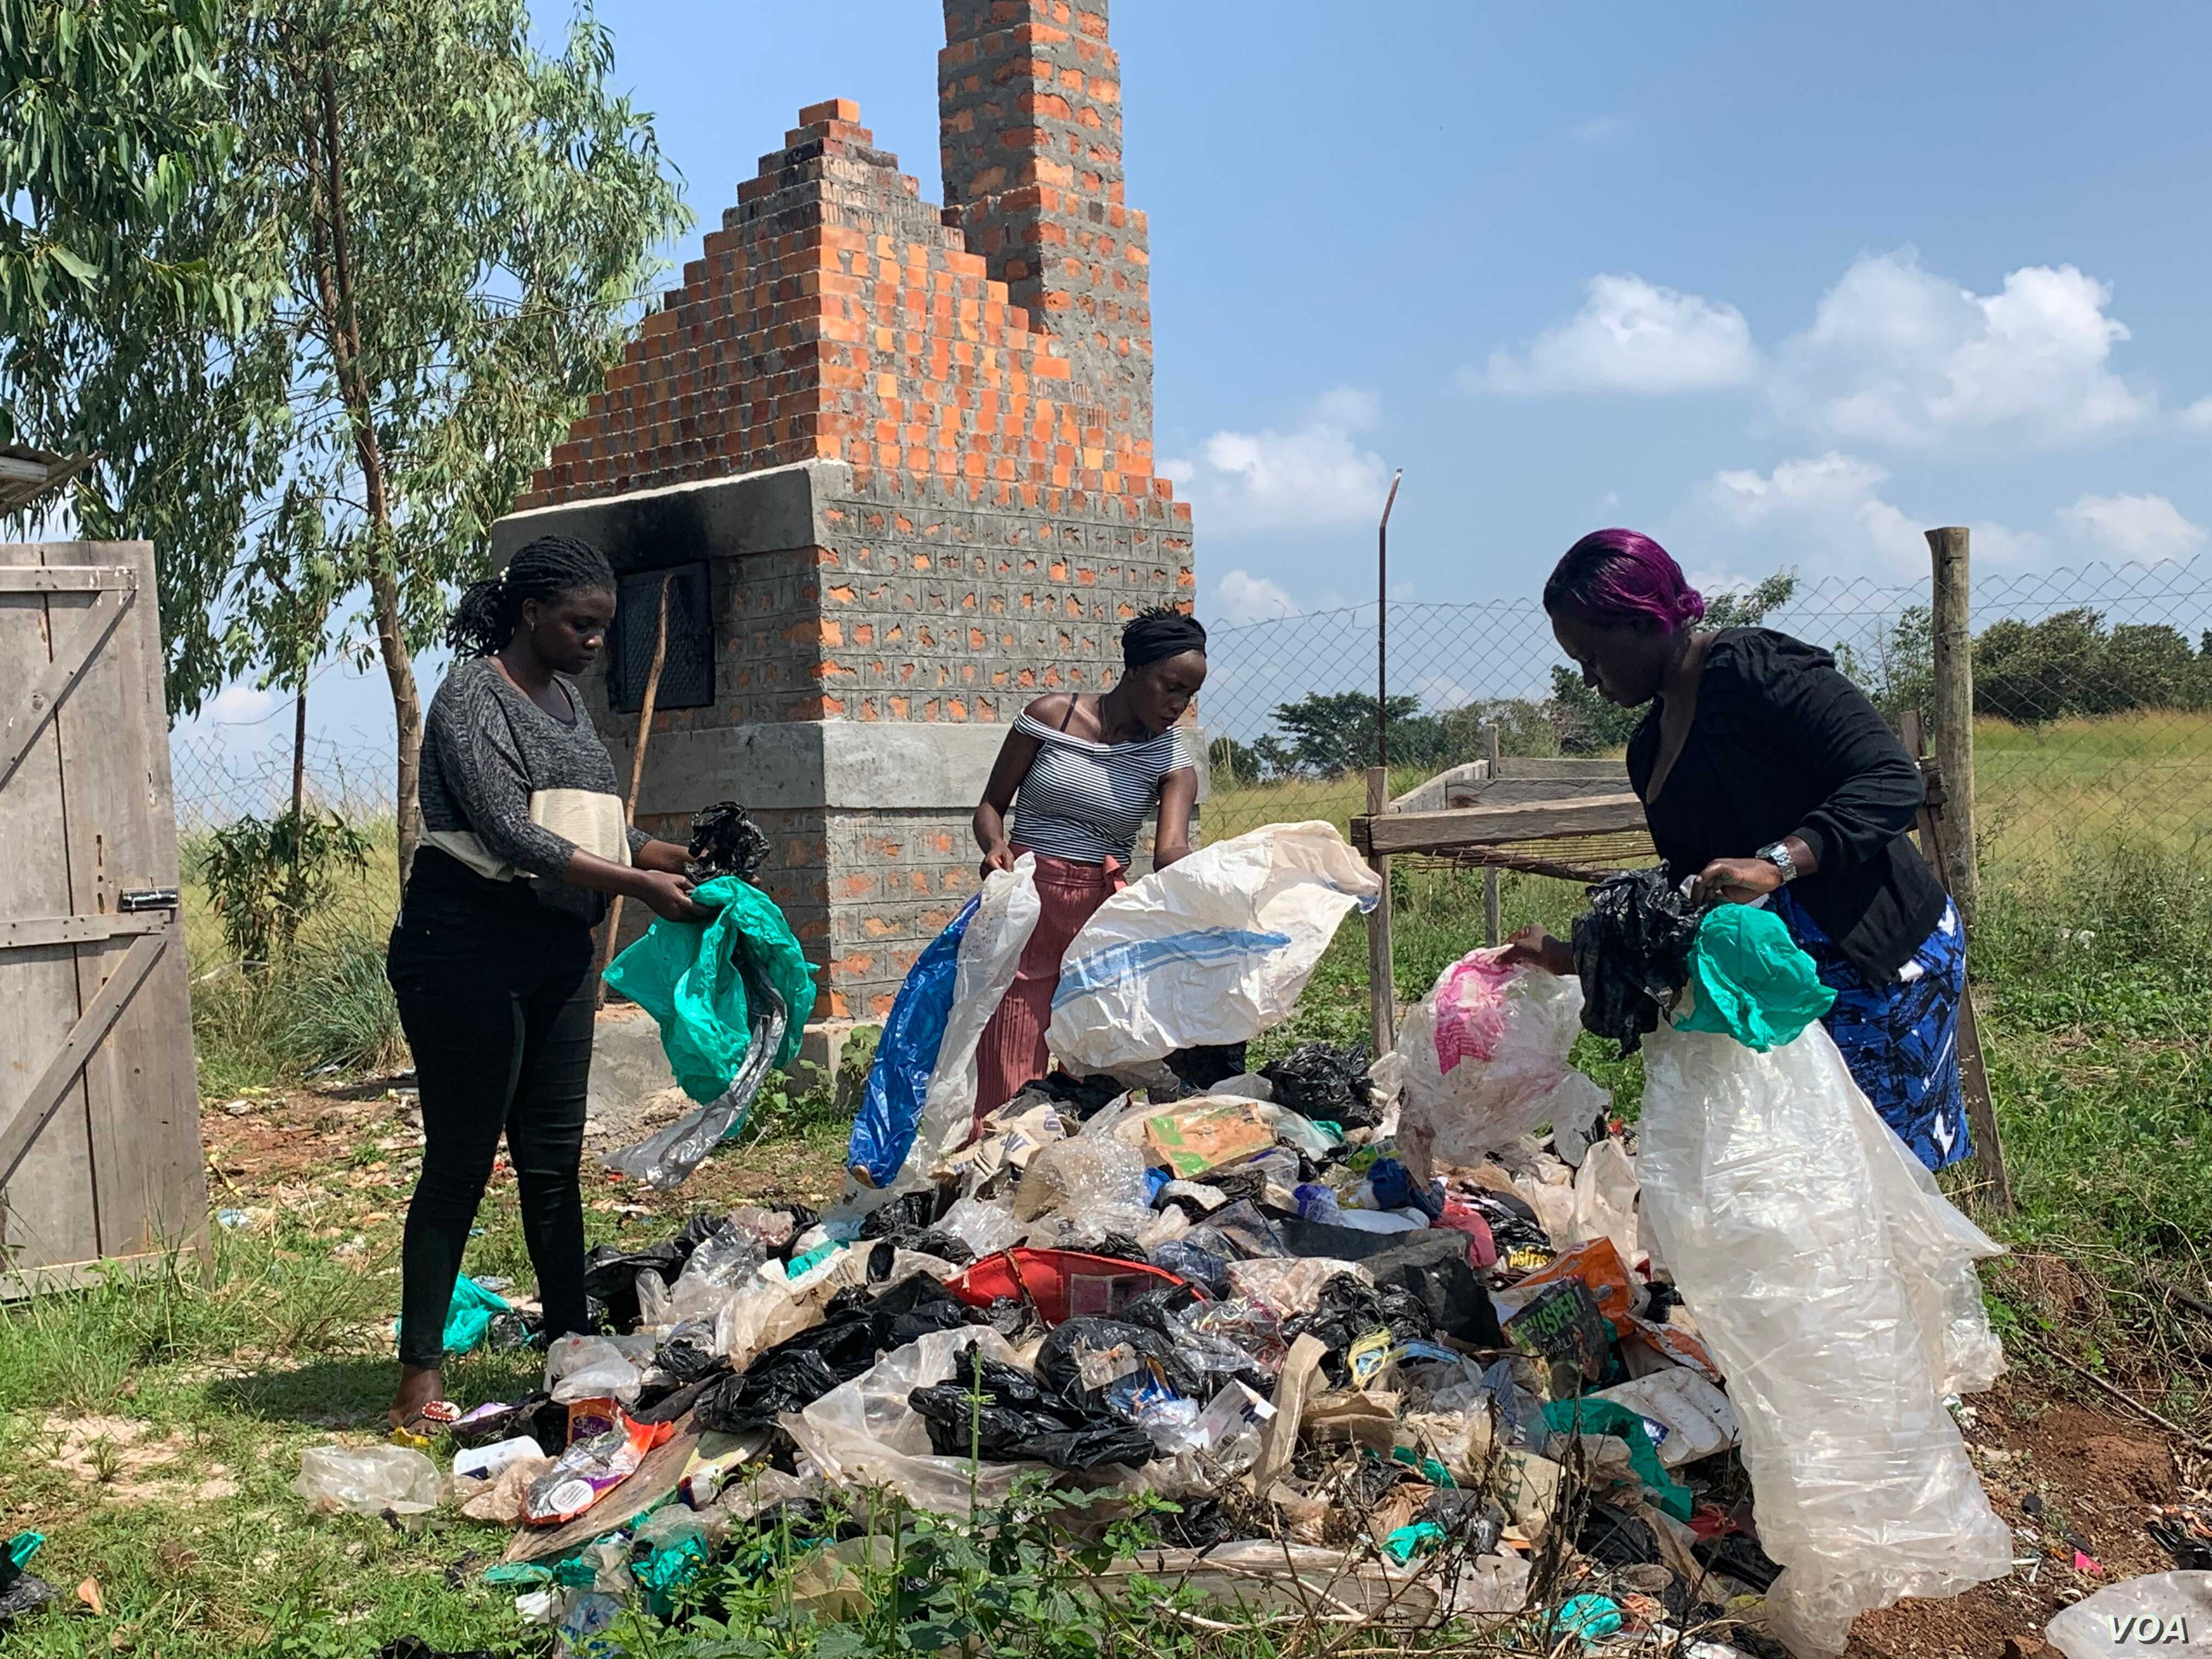plastic_bagwdw: (1503, 833, 2071, 1659), (805, 699, 1207, 1344), (596, 741, 921, 1425), (1036, 735, 1435, 1222)
